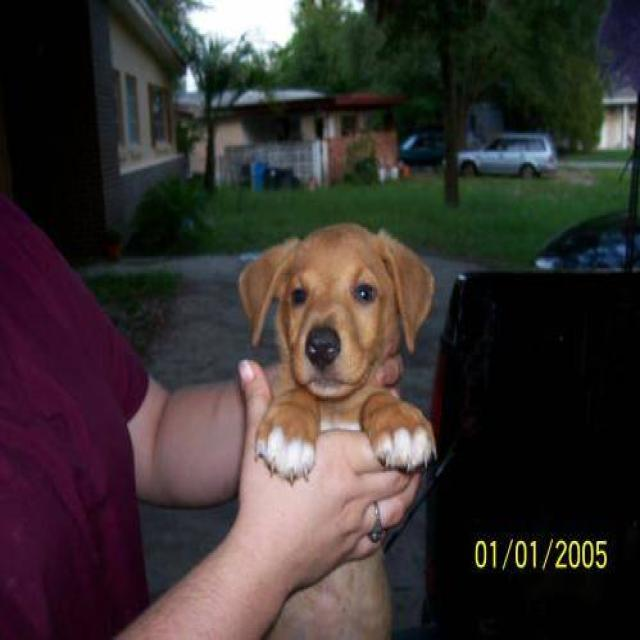dog: (236, 220, 437, 638)
